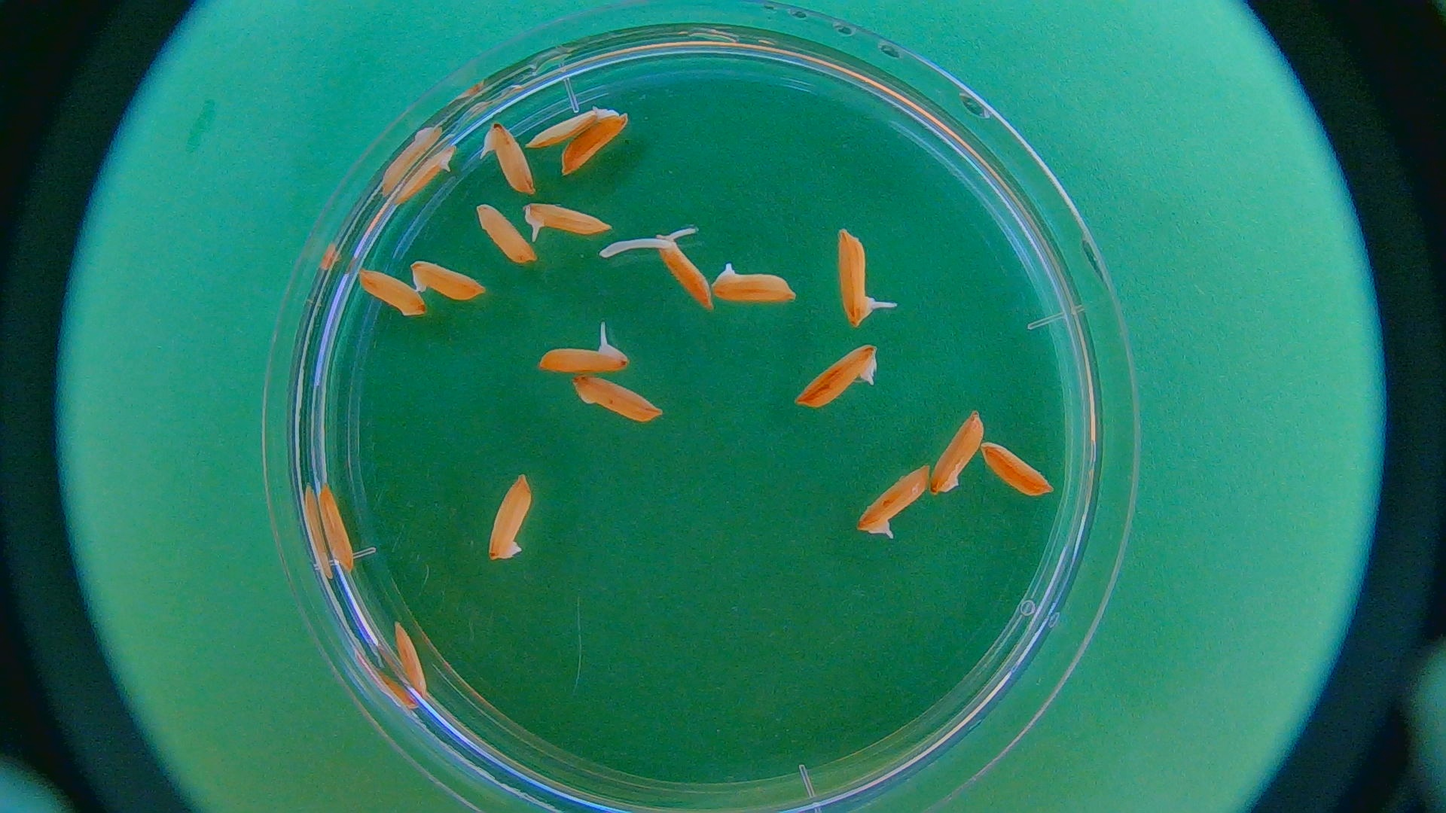no: (798, 343, 886, 411), (313, 470, 368, 577), (982, 433, 1055, 507), (931, 405, 985, 499), (572, 371, 664, 425), (352, 260, 429, 321), (472, 202, 545, 265), (562, 111, 627, 175), (395, 141, 459, 206), (489, 473, 533, 562), (394, 612, 436, 702), (407, 254, 487, 300), (715, 268, 798, 307), (518, 110, 596, 149)
yes: (859, 466, 929, 534), (654, 230, 714, 309), (835, 233, 875, 329), (482, 120, 535, 192), (544, 340, 628, 374), (529, 200, 606, 237)
